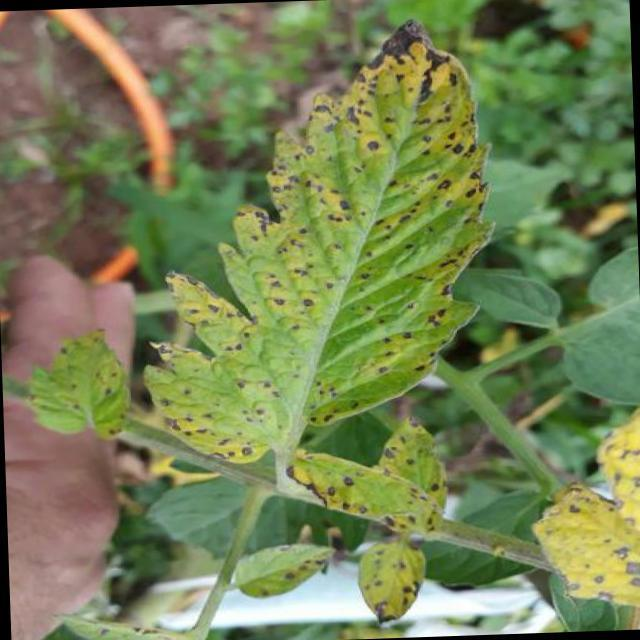Bacterial Spot: (150, 21, 506, 459), (538, 409, 640, 611), (22, 310, 140, 454), (292, 452, 454, 539), (219, 524, 346, 602), (350, 536, 438, 628)
